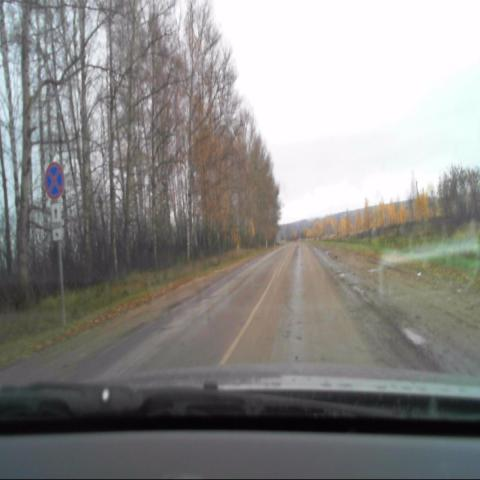8_2_2: (50, 202, 64, 239)
